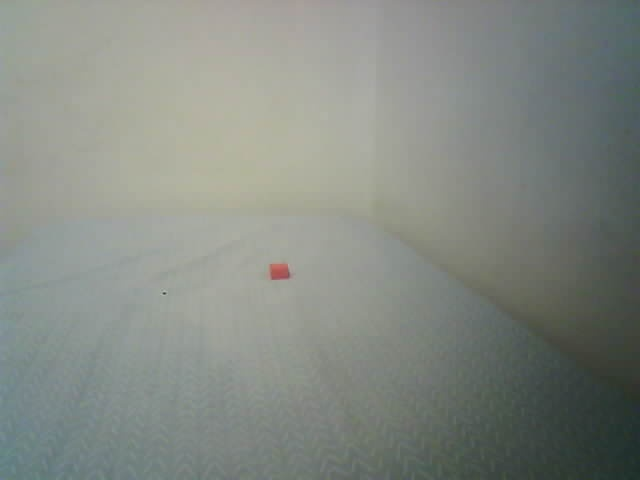lego: (268, 263, 290, 280)
